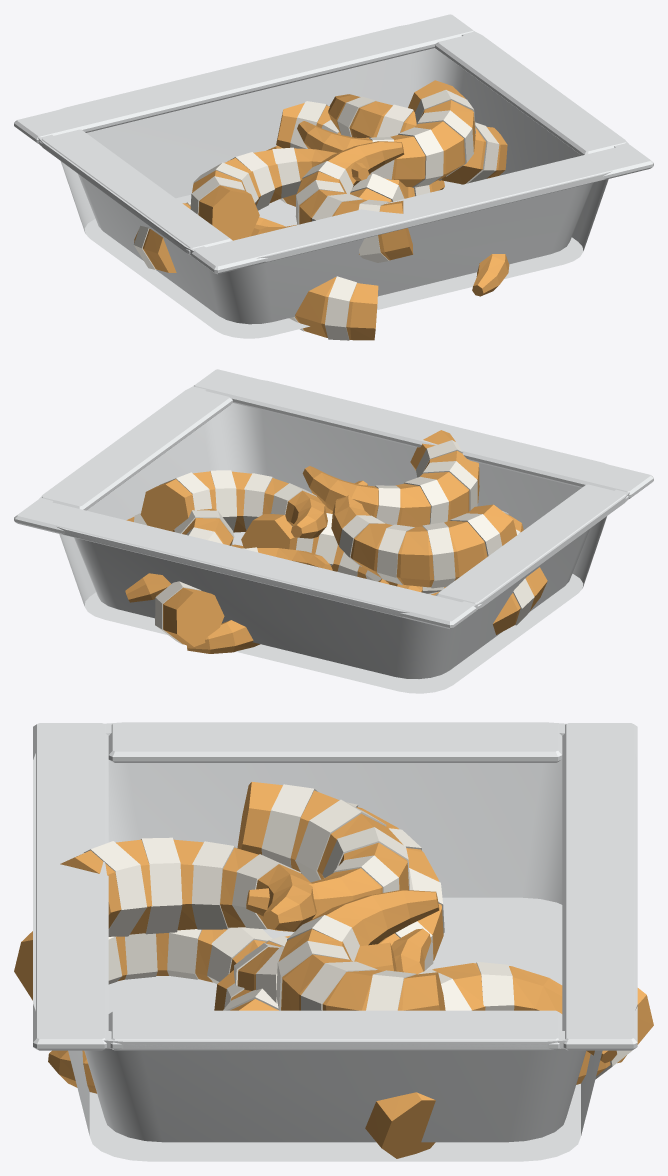
The model's file is fresh-produce-and-groceries-prawns-tray-c1b86d32__24411.glb.
The picture shows the model from 3 angles, top to bottom: view 1: azimuth 30°, elevation 25°; view 2: azimuth 150°, elevation 25°; view 3: azimuth 270°, elevation 25°; orthographic projection. The views are drawn at different scales.
Parts seen in each view (by area): view 1: prawns-tray; view 2: prawns-tray; view 3: prawns-tray.
Part boxes in pixels (<box>): prawns-tray: <box>14,14,653,340</box>; prawns-tray: <box>14,369,653,693</box>; prawns-tray: <box>14,722,653,1161</box>.
Bounding box in the file's own units: 0.13 × 0.0339 × 0.1101.
